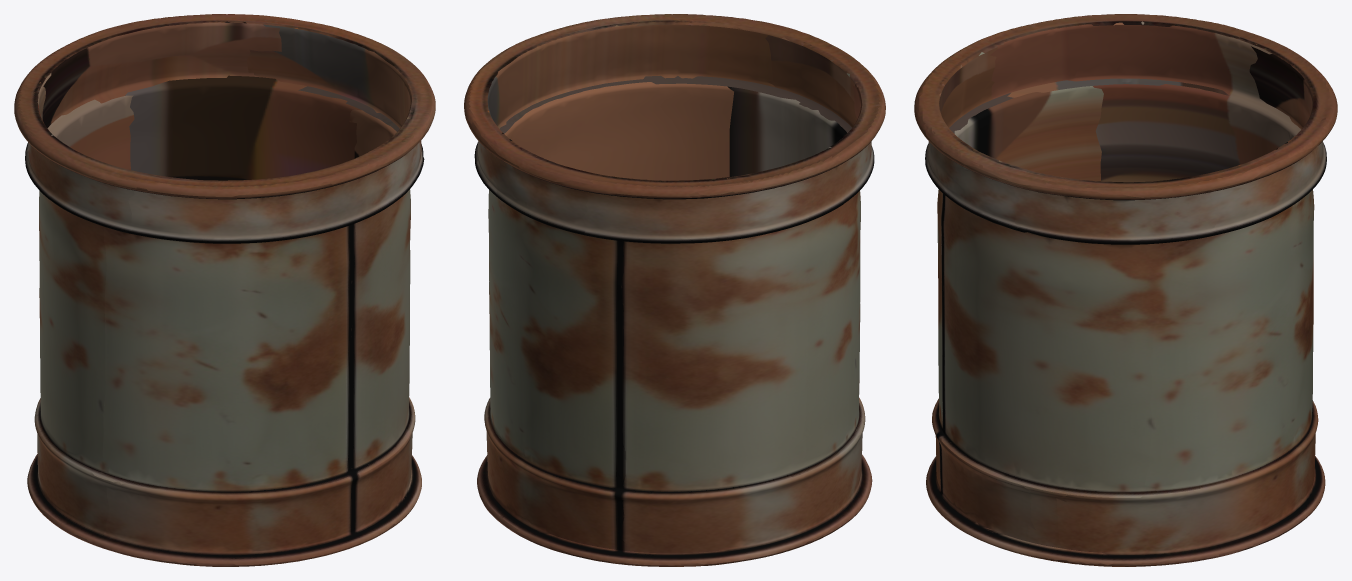
File: roof-chimney-steel.glb
The picture shows the model from 3 angles, left to right: view 1: azimuth 30°, elevation 25°; view 2: azimuth 150°, elevation 25°; view 3: azimuth 270°, elevation 25°; orthographic projection.
Visible parts, largest first — view 1: tmp_8rdz1ou.ply; view 2: tmp_8rdz1ou.ply; view 3: tmp_8rdz1ou.ply.
Part boxes in pixels (bbox=[...]): tmp_8rdz1ou.ply: bbox=[14, 14, 435, 566]; tmp_8rdz1ou.ply: bbox=[464, 14, 885, 566]; tmp_8rdz1ou.ply: bbox=[914, 14, 1337, 566].
Bounding box in the file's own units: 1 × 1 × 1.
1 material, 1 textured.
